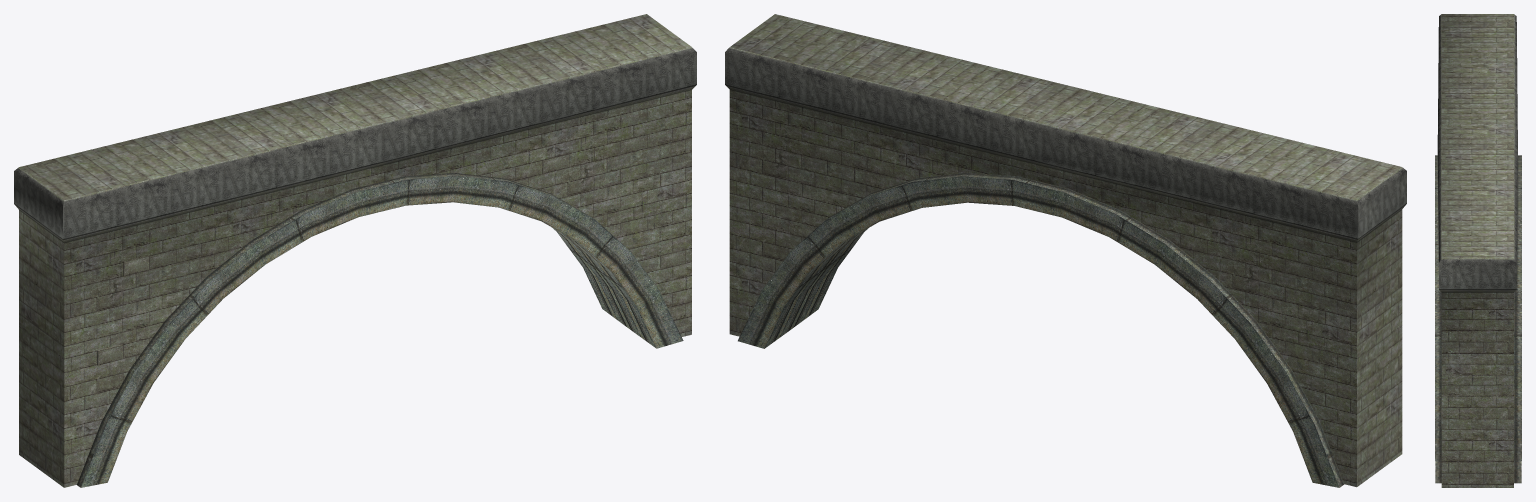
Rendered from Bigarch.fbx.
3 views of the same model, side by side, from view 1: azimuth 30°, elevation 25°; view 2: azimuth 150°, elevation 25°; view 3: azimuth 270°, elevation 25° (orthographic). The views are drawn at different scales.
Visible parts, largest first — view 1: Mesh Object; view 2: Mesh Object; view 3: Mesh Object.
Part boxes in pixels (box(x1,y1,x2,y2)): Mesh Object: box(14, 14, 696, 487); Mesh Object: box(725, 14, 1406, 487); Mesh Object: box(1435, 14, 1521, 487).
Bounding box in the file's own units: 8.08 × 3.52 × 1.2.
